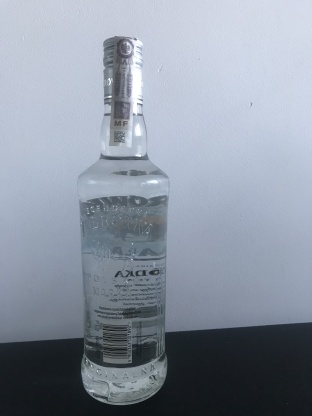nakretka: (99, 32, 146, 109)
